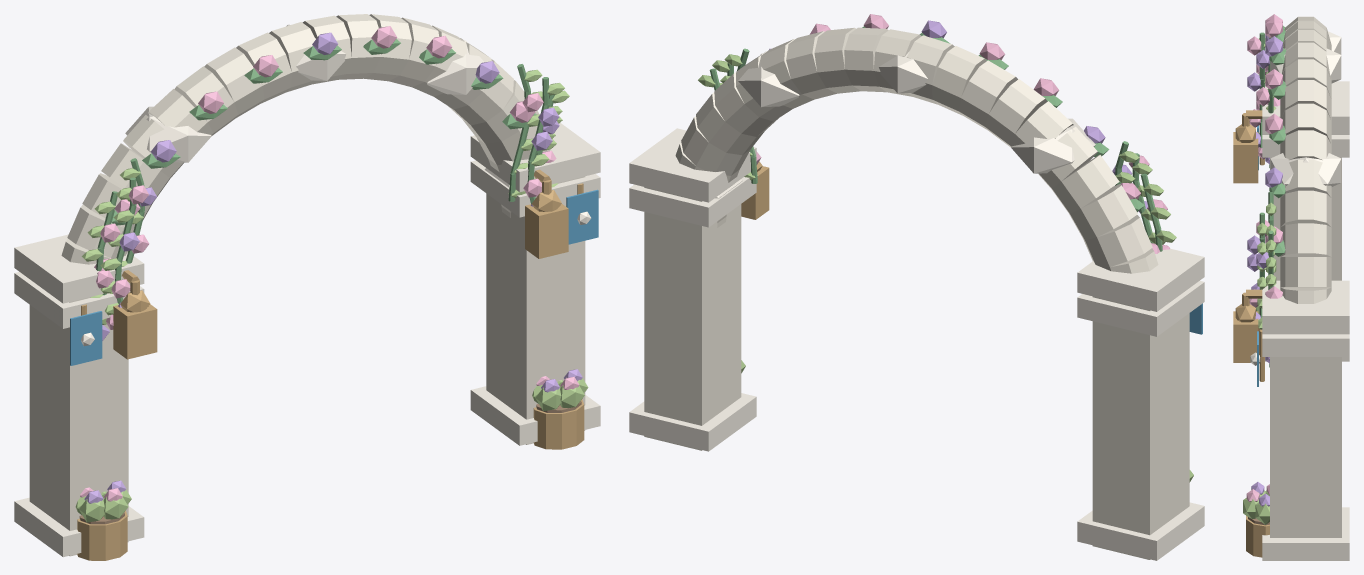
Rendered from gate-arch.glb.
3 views of the same model, side by side, from view 1: azimuth 30°, elevation 25°; view 2: azimuth 150°, elevation 25°; view 3: azimuth 270°, elevation 25° (orthographic). The views are drawn at different scales.
Parts seen in each view (by area): view 1: stone_mesh, stone_trim_mesh, gold_mesh, leaf_light_mesh, leaf_mesh, pink_mesh, purple_mesh, blue_mesh; view 2: stone_mesh, stone_trim_mesh, leaf_mesh, leaf_light_mesh, pink_mesh, gold_mesh, purple_mesh; view 3: stone_mesh, stone_trim_mesh, gold_mesh, pink_mesh, purple_mesh, leaf_mesh, leaf_light_mesh.
Boxes of the visible parts, bbox=[...] form: stone_mesh: bbox=[29, 14, 585, 556]; stone_trim_mesh: bbox=[14, 24, 600, 557]; gold_mesh: bbox=[77, 169, 584, 560]; leaf_light_mesh: bbox=[75, 69, 588, 522]; leaf_mesh: bbox=[96, 39, 554, 303]; pink_mesh: bbox=[80, 26, 579, 501]; purple_mesh: bbox=[84, 32, 582, 503]; blue_mesh: bbox=[70, 189, 598, 365]; stone_mesh: bbox=[644, 27, 1189, 559]; stone_trim_mesh: bbox=[629, 51, 1204, 560]; leaf_mesh: bbox=[709, 26, 1162, 251]; leaf_light_mesh: bbox=[698, 54, 1193, 482]; pink_mesh: bbox=[756, 14, 1169, 253]; gold_mesh: bbox=[741, 161, 769, 219]; purple_mesh: bbox=[769, 20, 1147, 213]; stone_mesh: bbox=[1270, 16, 1341, 537]; stone_trim_mesh: bbox=[1250, 31, 1349, 560]; gold_mesh: bbox=[1233, 110, 1269, 557]; pink_mesh: bbox=[1246, 14, 1282, 501]; purple_mesh: bbox=[1247, 35, 1282, 506]; leaf_mesh: bbox=[1259, 26, 1286, 367]; leaf_light_mesh: bbox=[1243, 38, 1276, 524].
Size of what is drawn, in the model's own units: 4.3 by 3.5 by 0.9.
